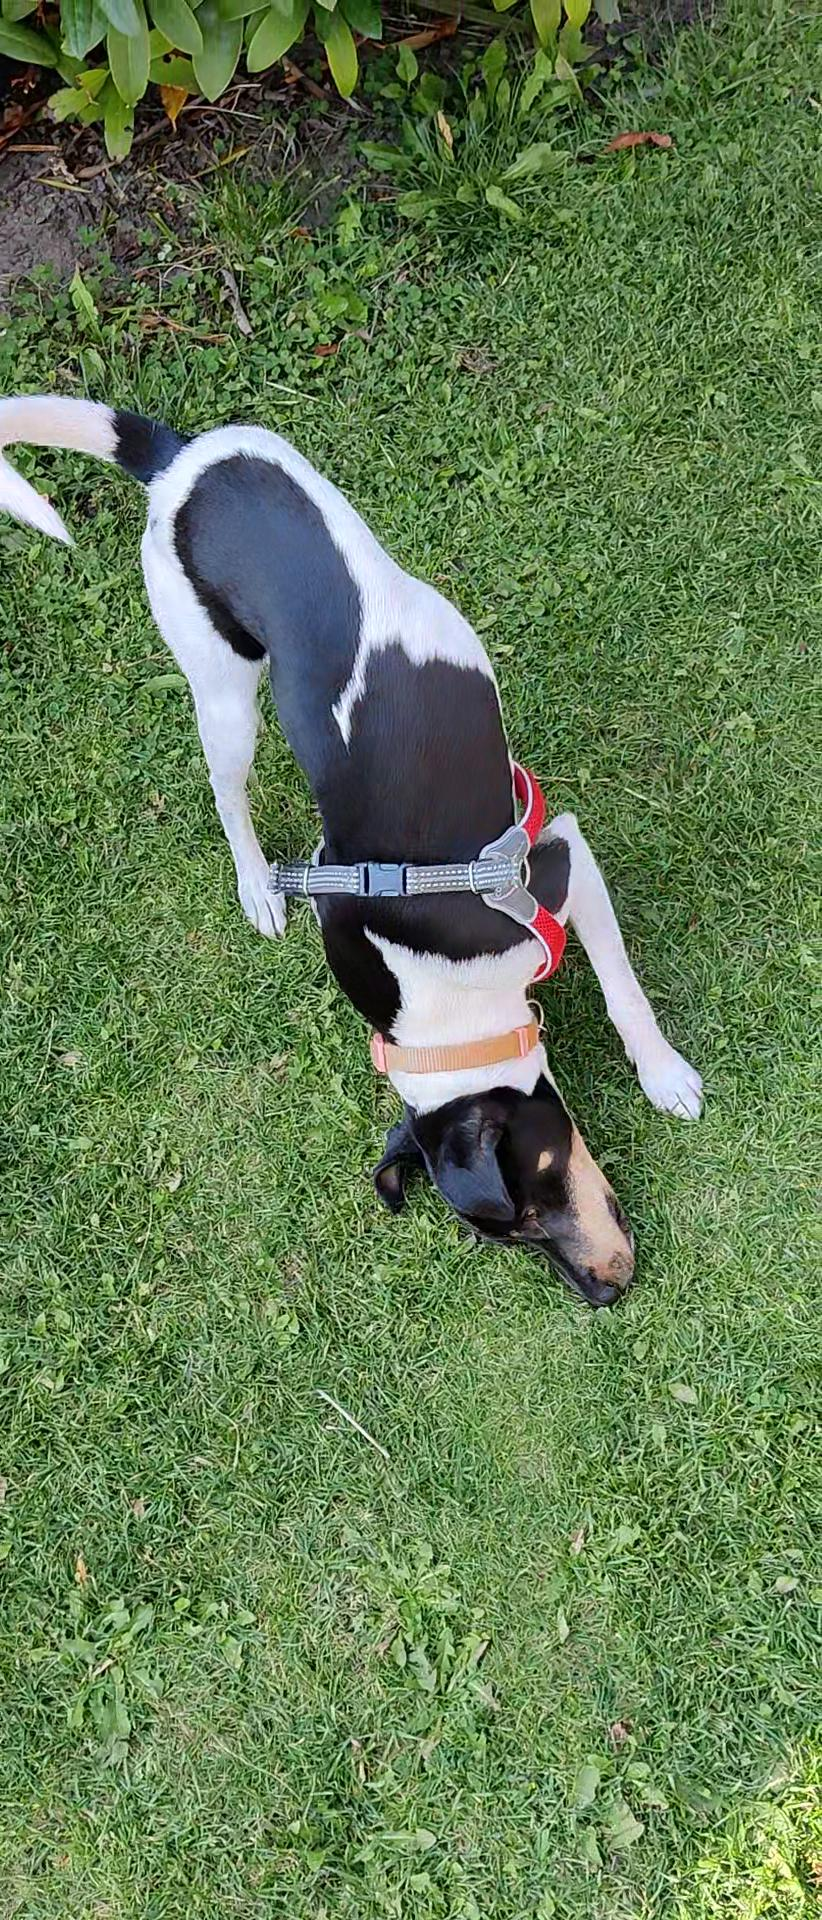Dog: (0, 378, 714, 1322)
